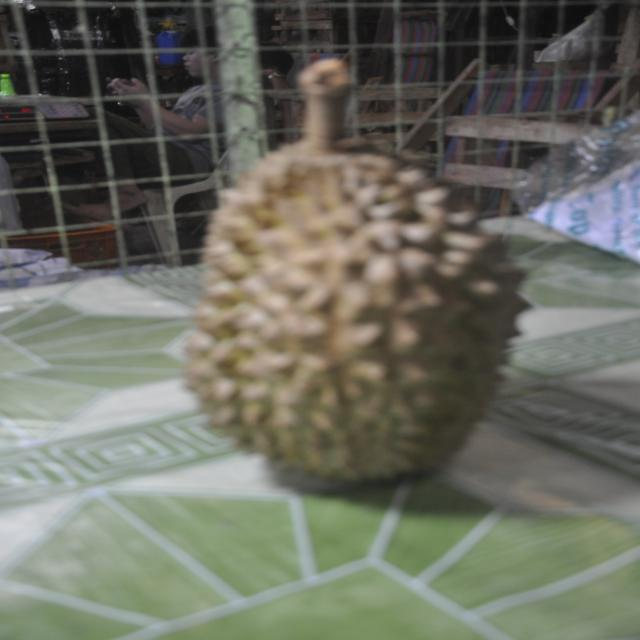mature: (188, 61, 526, 481)
